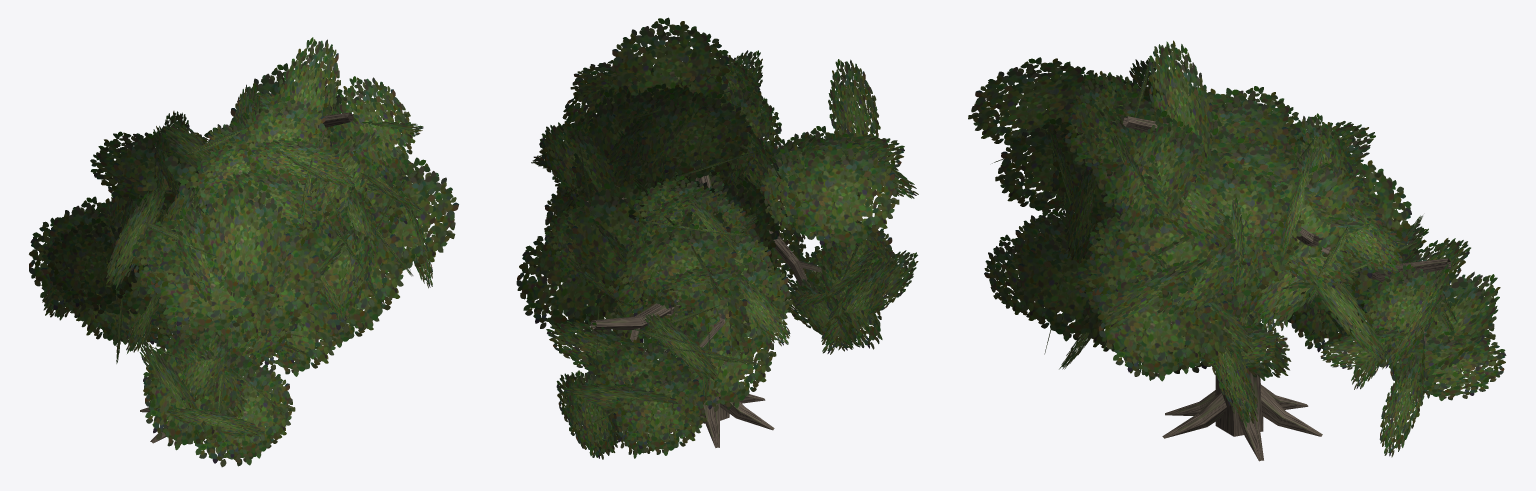
Rendered from TwistedTree_5_LOD1.gltf.
The picture shows the model from 3 angles, left to right: view 1: azimuth 30°, elevation 25°; view 2: azimuth 150°, elevation 25°; view 3: azimuth 270°, elevation 25°; orthographic projection. The views are drawn at different scales.
Parts seen in each view (by area): view 1: TwistedTree_5_LOD1; view 2: TwistedTree_5_LOD1; view 3: TwistedTree_5_LOD1.
Part boxes in pixels (bbox=[...]): TwistedTree_5_LOD1: bbox=[29, 37, 458, 467]; TwistedTree_5_LOD1: bbox=[516, 17, 918, 459]; TwistedTree_5_LOD1: bbox=[968, 40, 1506, 461].
Bounding box in the file's own units: 16.4 × 16.37 × 19.67.
2 materials, 2 textured.
